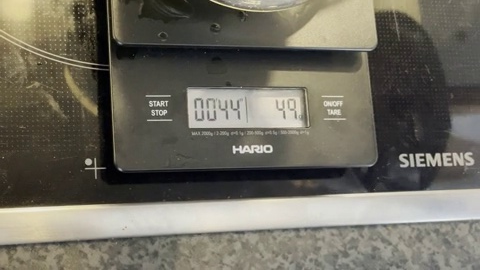display: (185, 87, 307, 127)
